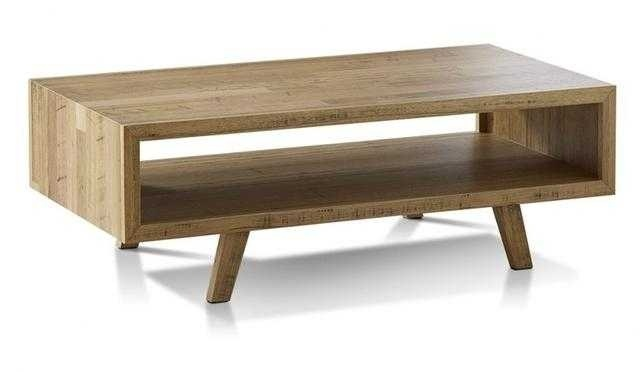obstacle: (30, 44, 614, 302)
